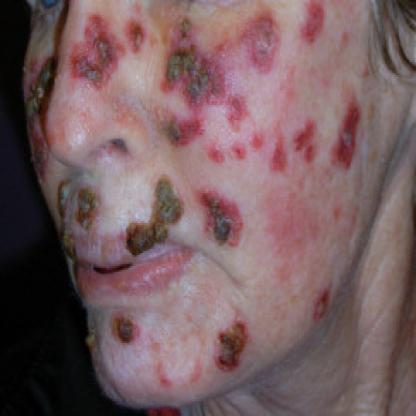Atopic Dermatitis: (165, 46, 222, 110), (76, 12, 115, 92), (148, 178, 188, 228), (218, 320, 244, 371)
